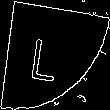L_N: (37, 28, 73, 82)
